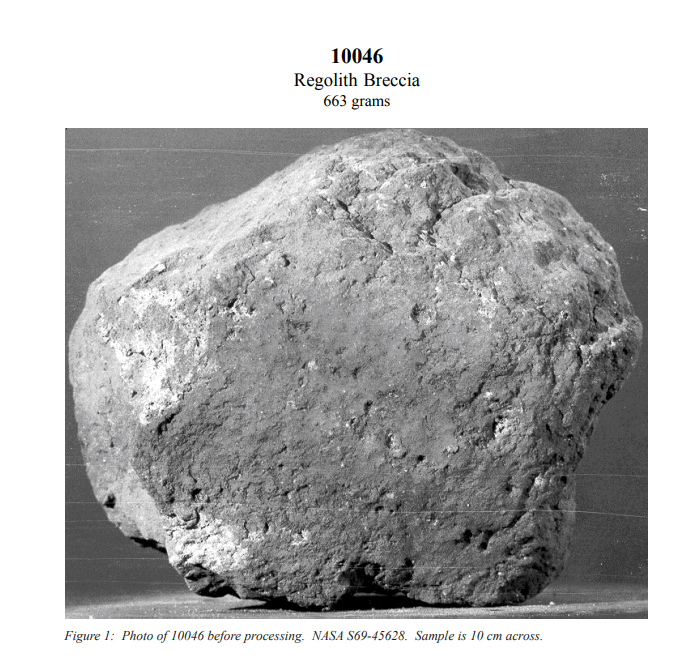Breccia: (55, 133, 617, 606)
